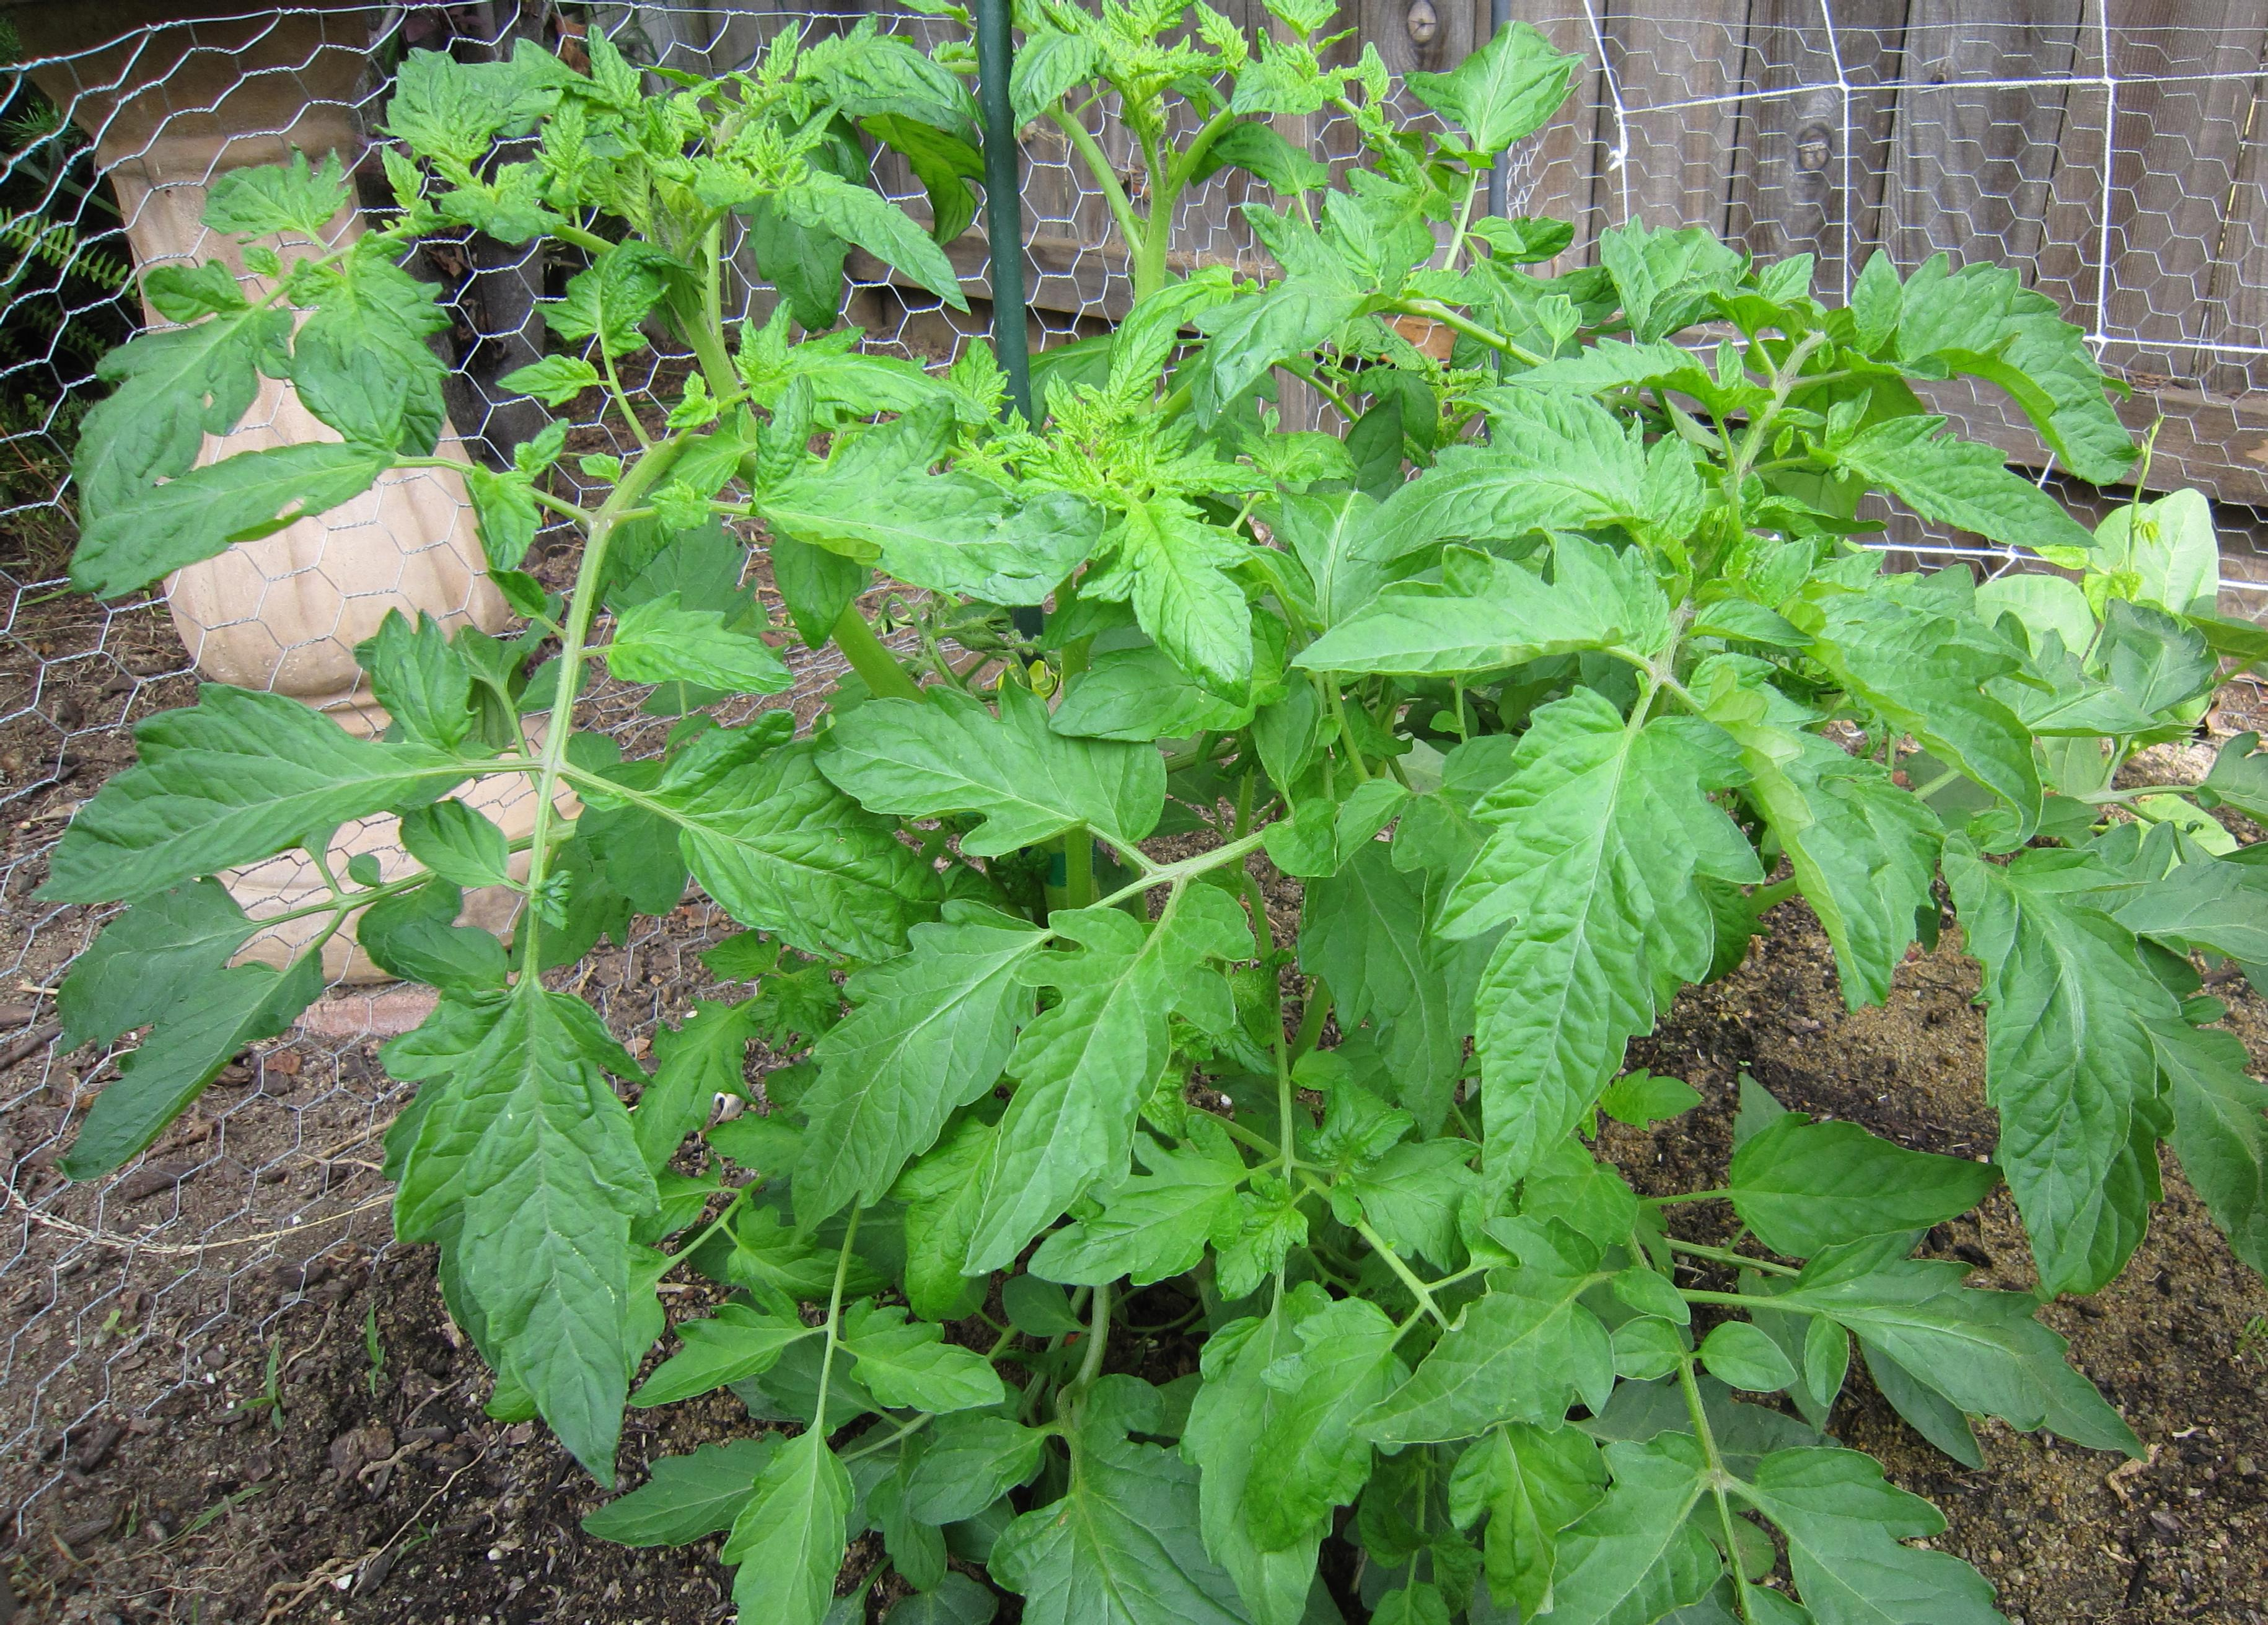Tomato leaf: (413, 990, 675, 1539), (76, 642, 501, 941), (1445, 710, 1723, 1161), (1945, 777, 2157, 1317), (661, 397, 1138, 603), (775, 876, 1044, 1238), (1832, 225, 2148, 512), (1280, 769, 1487, 1164), (809, 682, 1180, 902), (67, 412, 389, 665), (1366, 390, 1758, 594), (55, 916, 336, 1191), (1698, 651, 1927, 987), (1305, 535, 1661, 742), (1363, 1252, 1653, 1504), (1806, 1242, 2119, 1474), (953, 937, 1153, 1298), (1227, 1270, 1438, 1578), (985, 1412, 1285, 1625), (1802, 389, 2085, 600), (1728, 528, 2045, 712), (1429, 1437, 1737, 1625), (1767, 1423, 2048, 1625), (988, 1143, 1268, 1344), (1196, 186, 1445, 403), (719, 142, 979, 350), (1470, 304, 1767, 463), (1705, 1103, 1985, 1270), (2094, 816, 2268, 1064), (1094, 477, 1262, 712), (1275, 594, 1637, 681), (1414, 23, 1588, 186), (580, 593, 819, 703)
